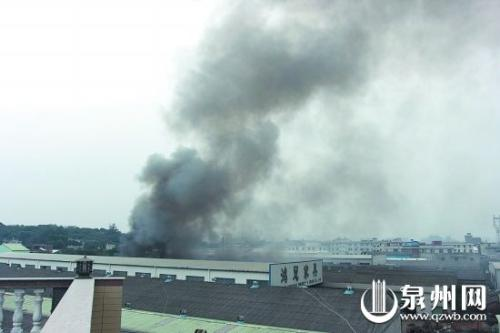smoke: (125, 1, 384, 250)
